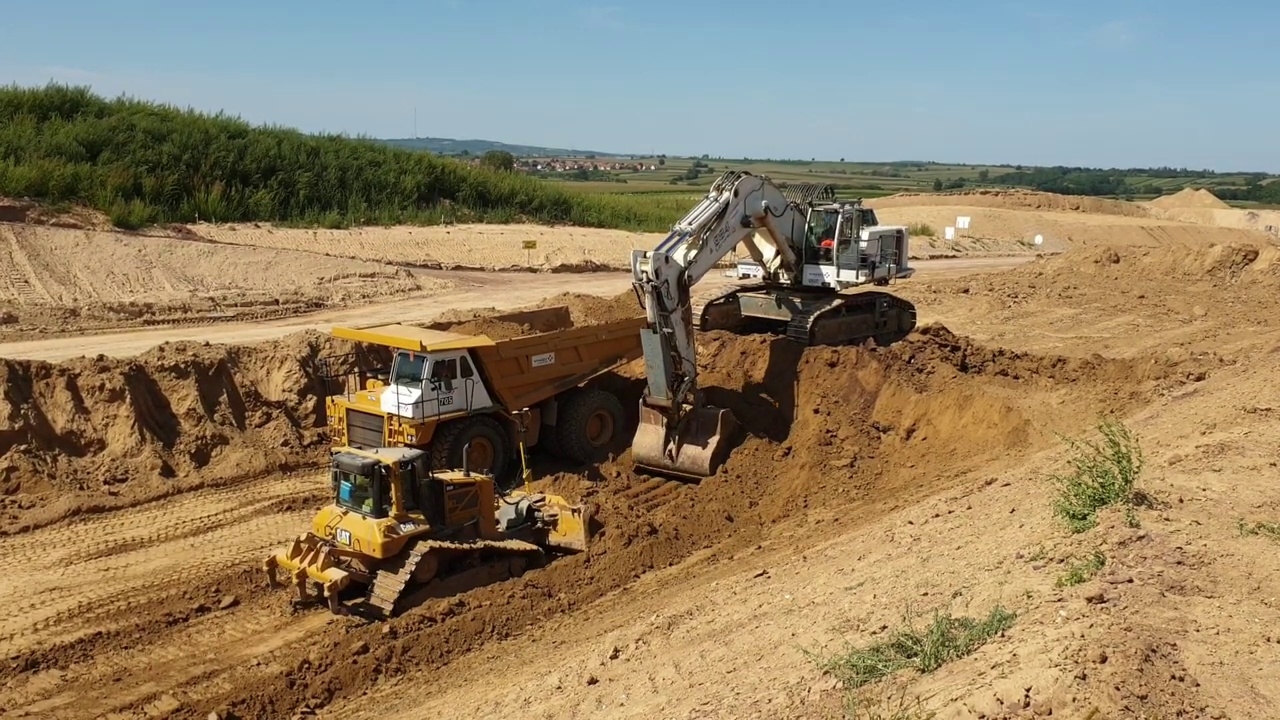bulldozer: (260, 403, 598, 626)
excavator: (626, 168, 921, 488)
truck: (309, 299, 653, 506)
